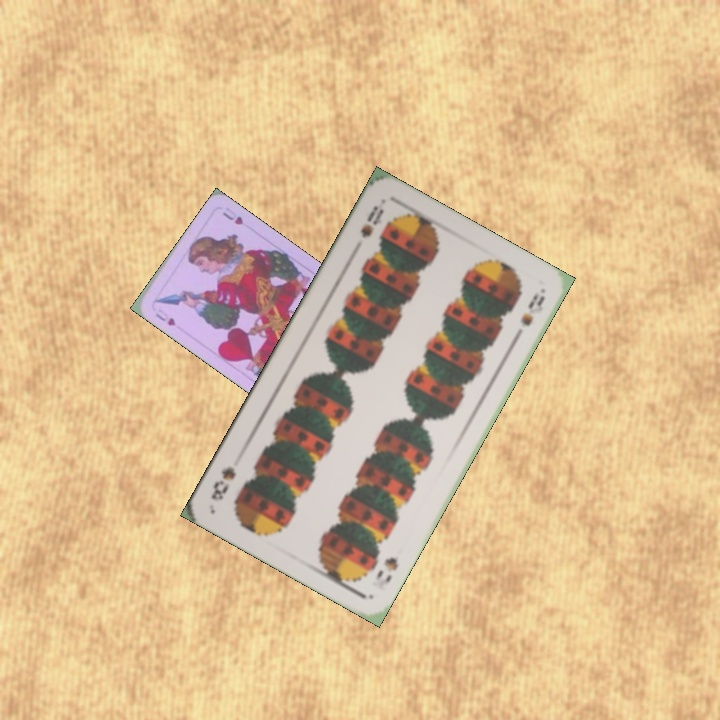HU: (151, 305, 178, 329)
S8: (356, 201, 387, 241), (371, 553, 401, 586)
